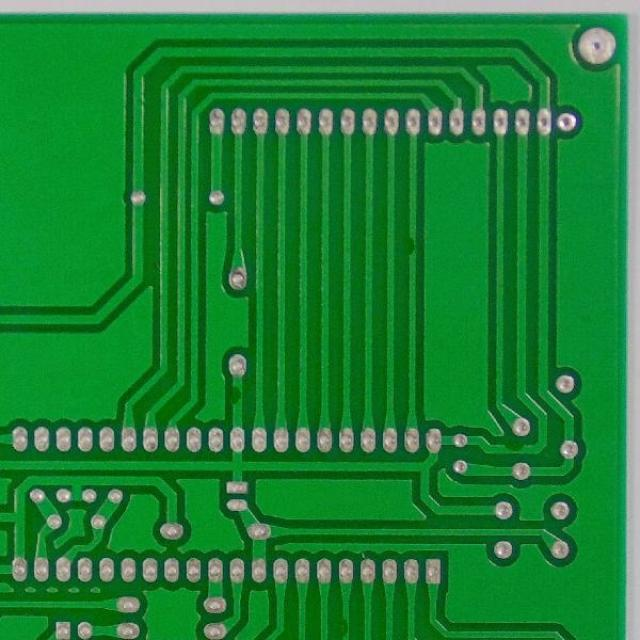mouse_bite: (227, 382, 248, 411), (401, 232, 421, 262), (336, 614, 355, 639)
